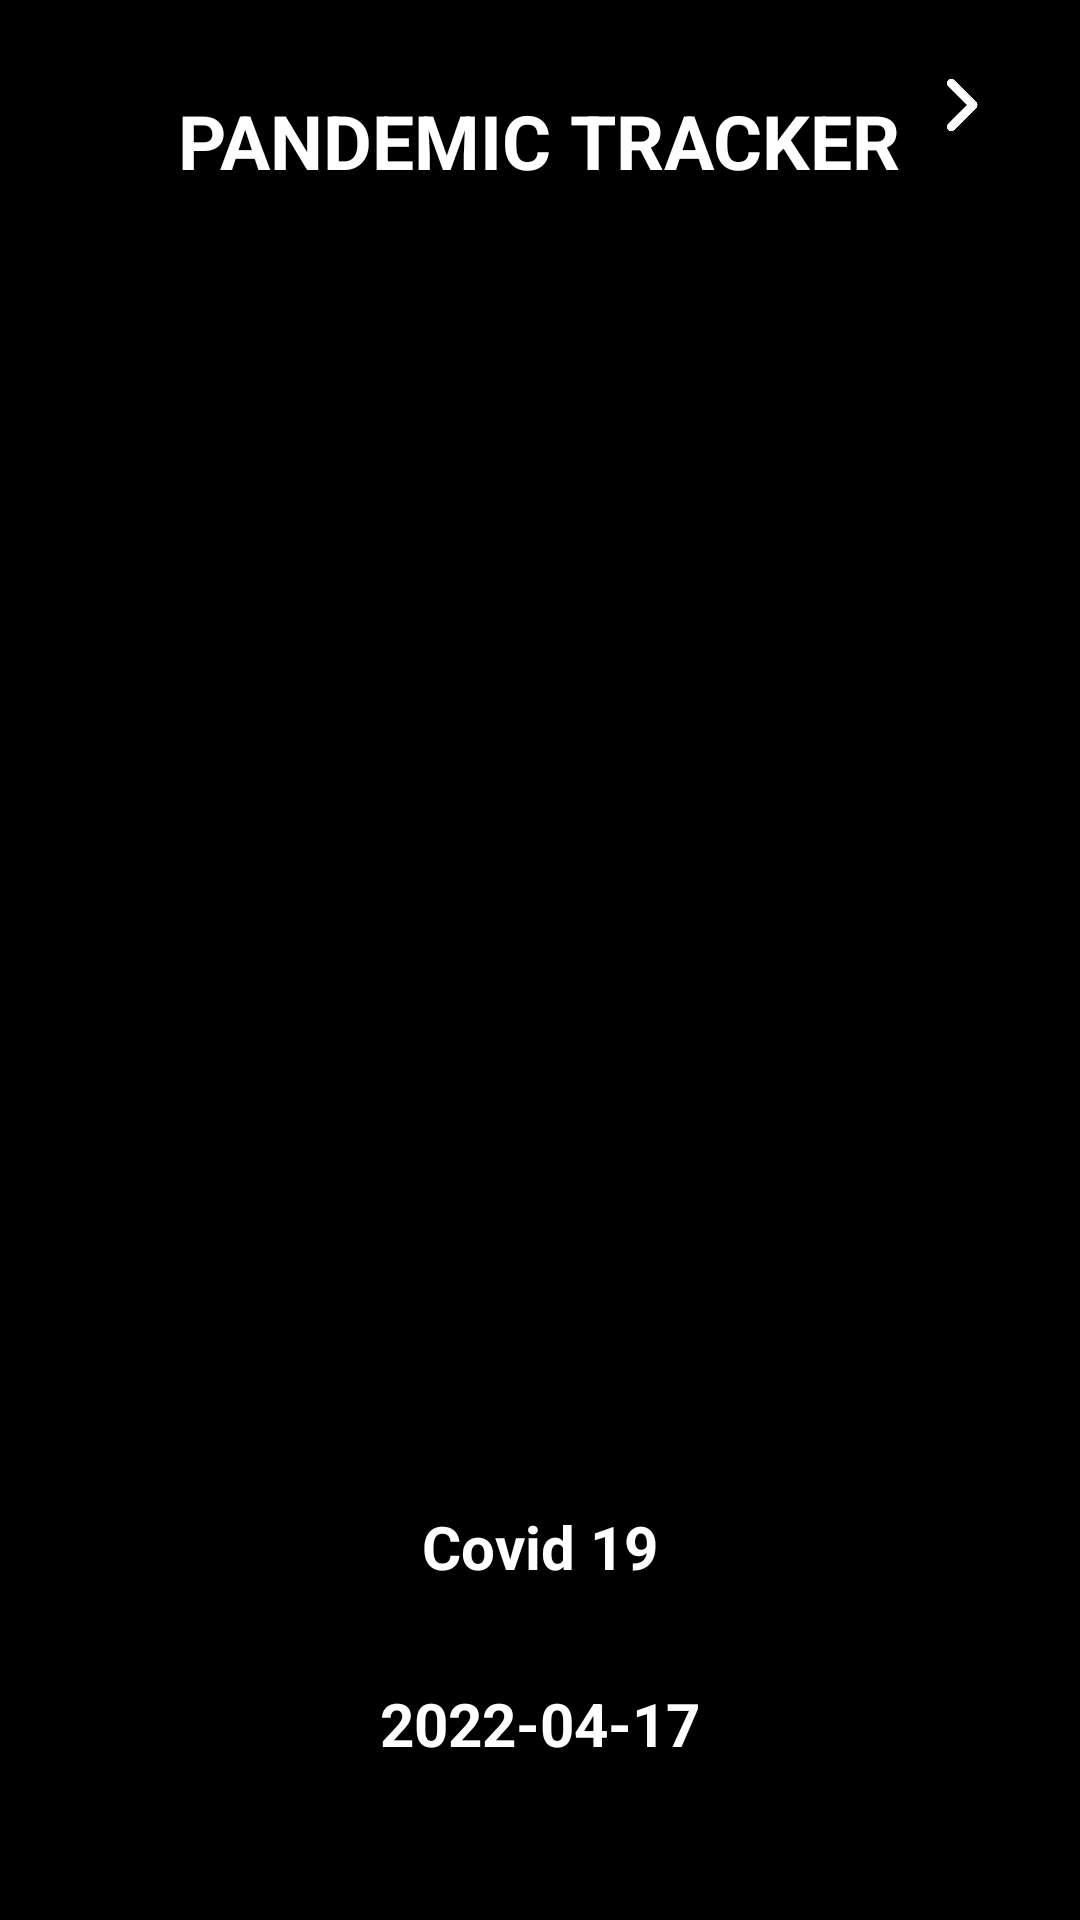

Icons on this 1080×1920 Android screen, each with the point to tap as [x,y]:
right: [962,105]
